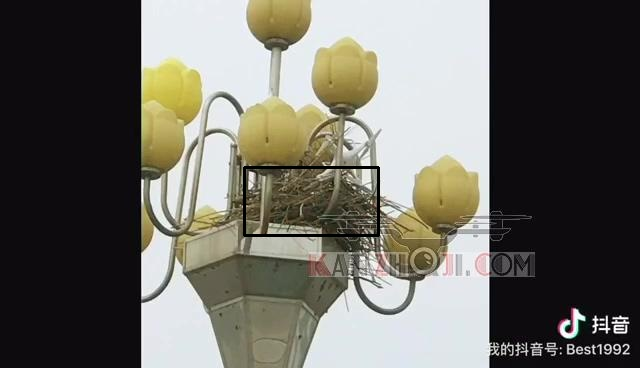bird-nest: (244, 167, 378, 235)
